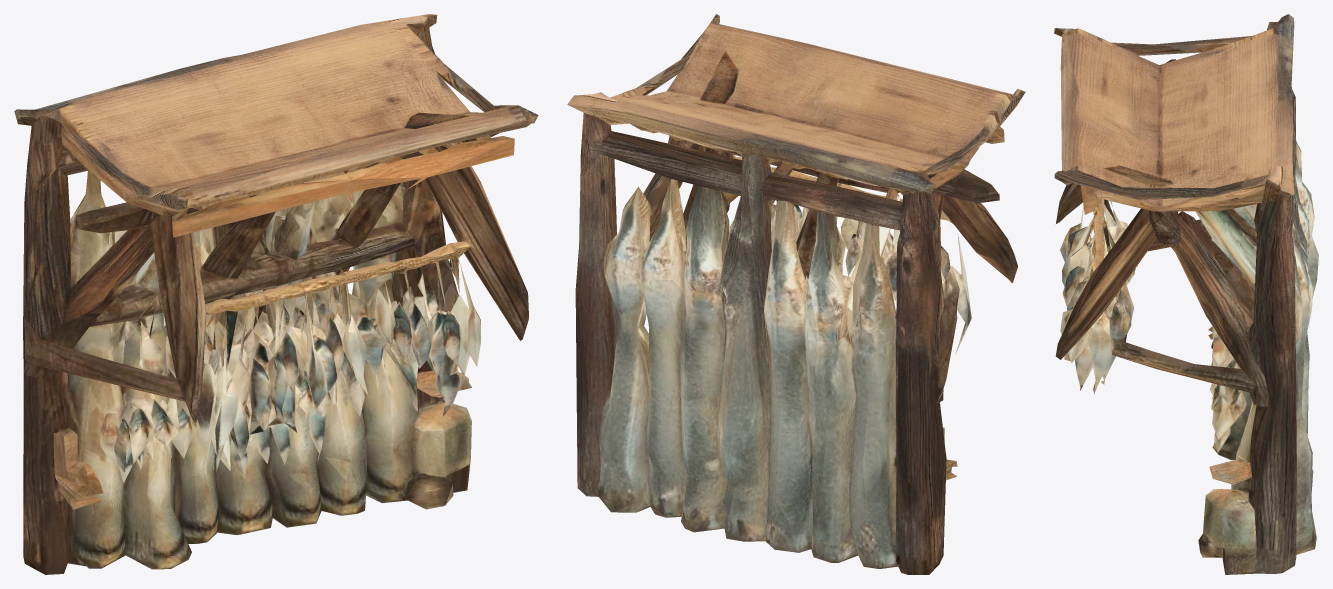
Rendered from fish-rack.glb.
3 views of the same model, side by side, from view 1: azimuth 30°, elevation 25°; view 2: azimuth 150°, elevation 25°; view 3: azimuth 270°, elevation 25° (orthographic). The views are drawn at different scales.
Size of the model in its own units: 1.89 by 1.9 by 1.17.
Materials: 1 (1 with a texture image).
